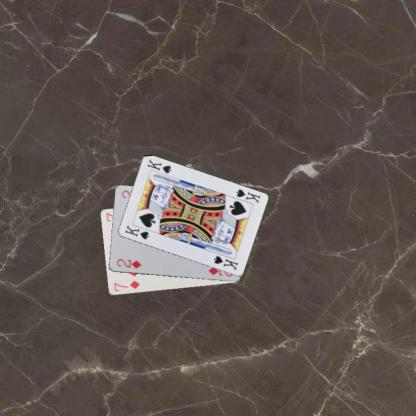2d: (114, 256, 142, 270)
7d: (112, 278, 140, 293)
Ks: (122, 222, 150, 241), (233, 186, 261, 204)
